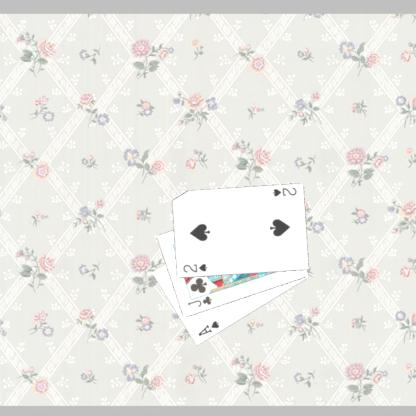2S: (180, 261, 209, 274), (269, 185, 298, 198)
AS: (195, 318, 220, 338)
JC: (184, 294, 212, 308)
